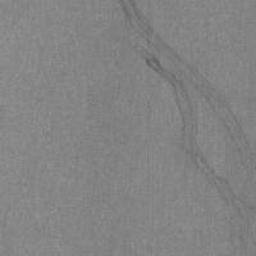Water spot: (114, 0, 256, 236)
